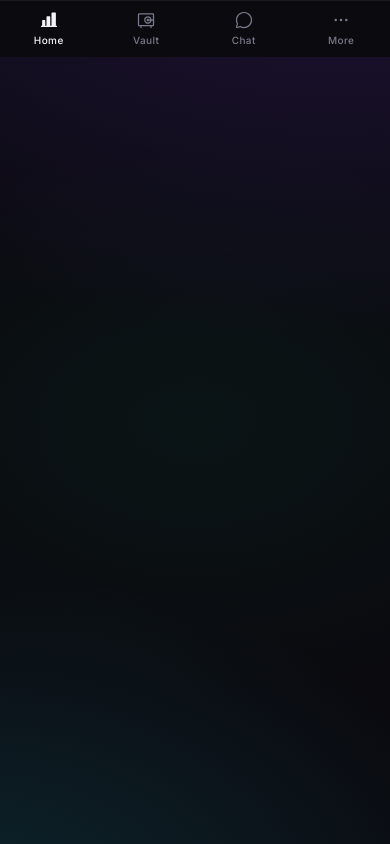
Scenario: BottomNav › More opens drawer; admin sees Herald + Squad entries when isAdmin=true
Click the button "More". click: click(341, 29)
box: [292,1,389,57]
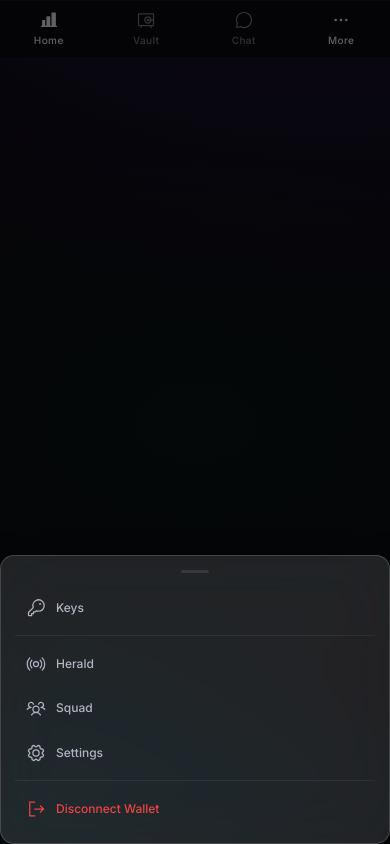
expect the button "Herald" is shown: met, box [15,643,375,684]
expect the button "Squad" is shown: met, box [15,688,375,728]
expect the button "Disconnect Wallet" is shown: met, box [15,788,375,829]
